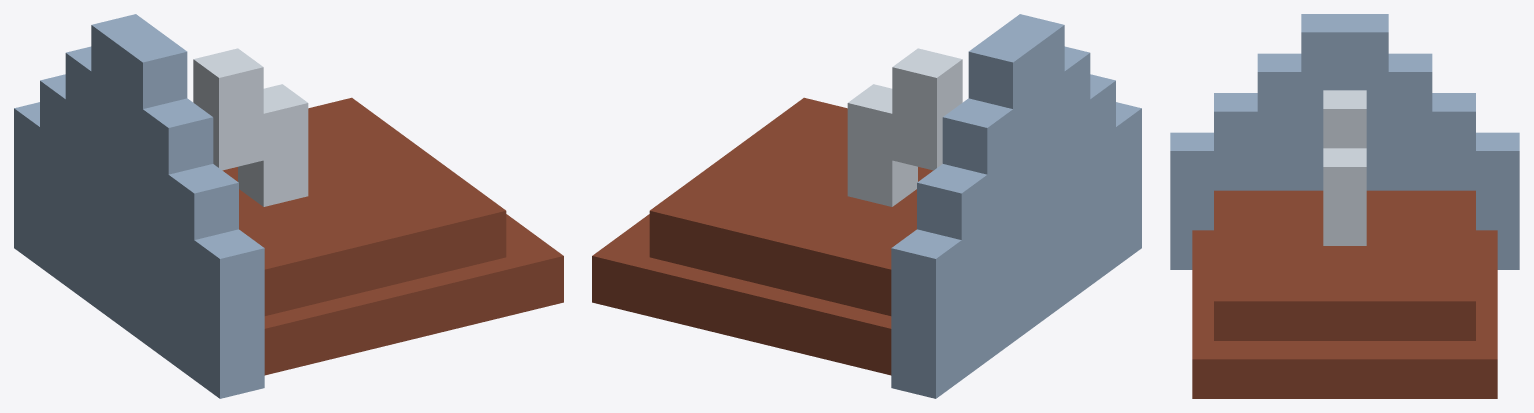
File: tomb-03.glb
3 renders of one model, left to right at view 1: azimuth 30°, elevation 25°; view 2: azimuth 150°, elevation 25°; view 3: azimuth 270°, elevation 25°, orthographic. The views are drawn at different scales.
Visible parts, largest first — view 1: generated(Clone); view 2: generated(Clone); view 3: generated(Clone).
Boxes of the visible parts, box(x1,y1,x2,y2) form: generated(Clone): box(14, 14, 563, 398); generated(Clone): box(592, 14, 1141, 398); generated(Clone): box(1170, 14, 1519, 398).
Size of the model in its own units: 8 by 6 by 8.
1 material, 1 textured.
